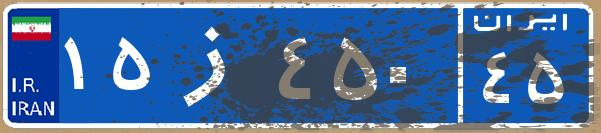0: (385, 28, 445, 110)
1: (57, 26, 110, 107)
4: (273, 28, 330, 110), (475, 38, 525, 113)
5: (330, 28, 385, 110), (110, 28, 158, 105), (525, 38, 570, 115)
ز: (158, 15, 273, 115)
